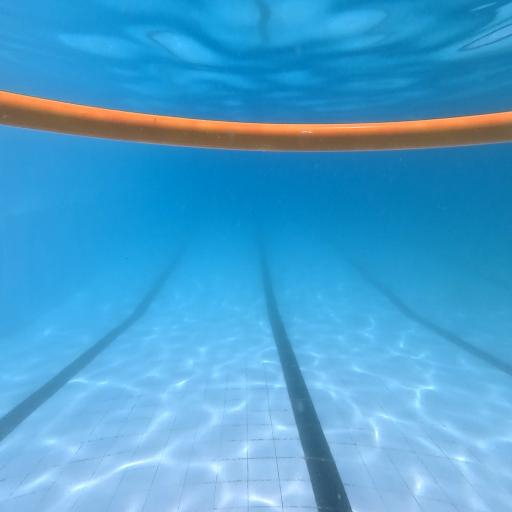upper_gate: (0, 89, 512, 147)
